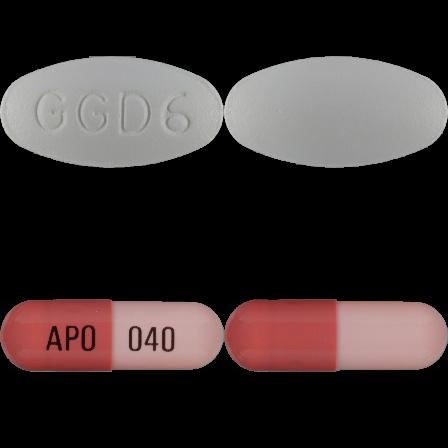63187-169: (0, 0, 224, 224)
